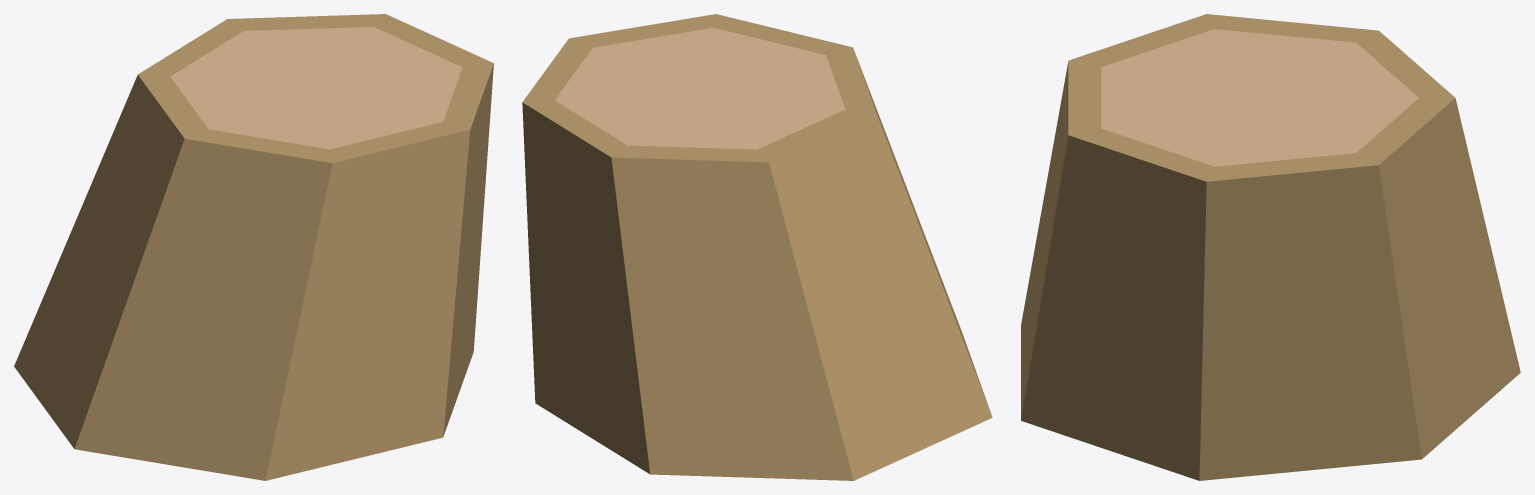
The model's file is Acacia_Stump_03.fbx.
3 views of the same model, side by side, from view 1: azimuth 30°, elevation 25°; view 2: azimuth 150°, elevation 25°; view 3: azimuth 270°, elevation 25° (orthographic). The views are drawn at different scales.
Visible parts, largest first — view 1: Acacia_Stump_03; view 2: Acacia_Stump_03; view 3: Acacia_Stump_03.
Part boxes in pixels (x1,y1,x2,y2): Acacia_Stump_03: [14, 14, 493, 480]; Acacia_Stump_03: [522, 14, 992, 480]; Acacia_Stump_03: [1021, 14, 1520, 480].
Bounding box in the file's own units: 117 × 74.19 × 108.
